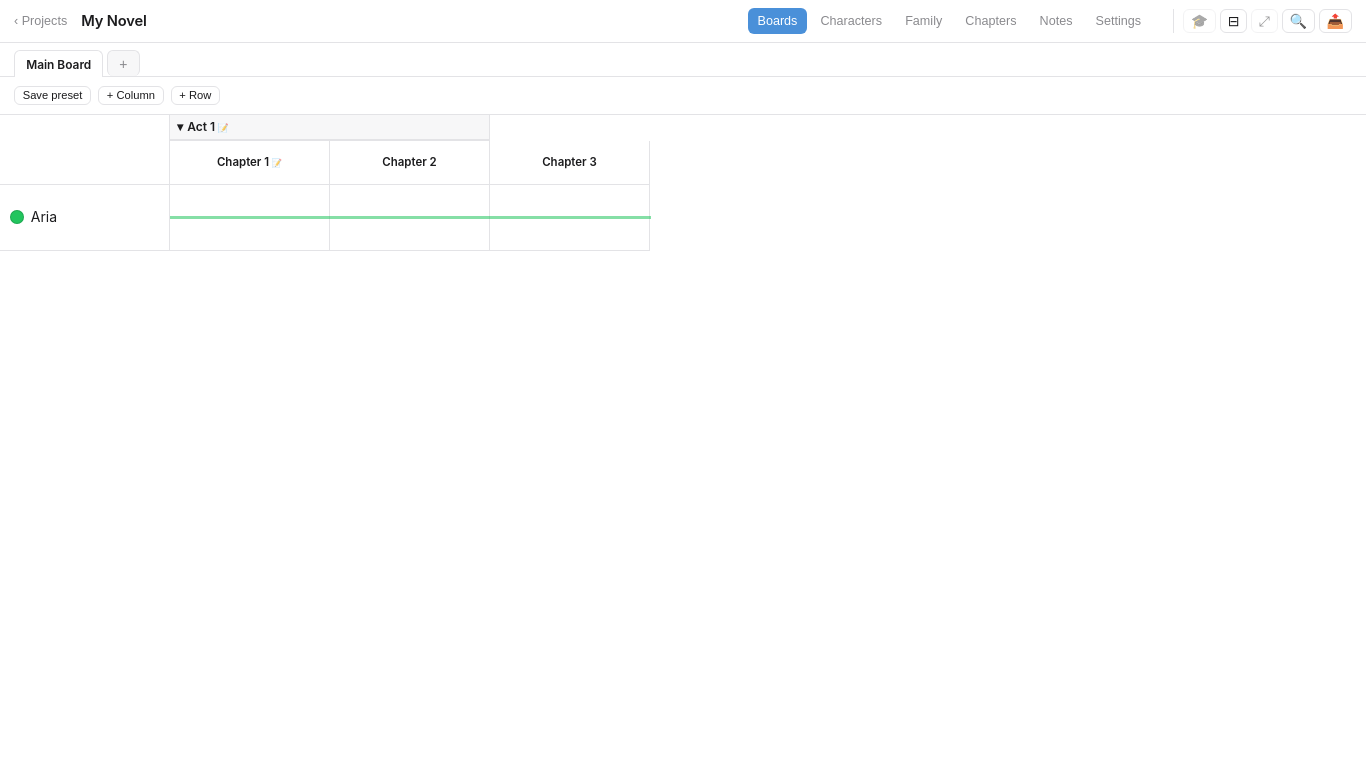
Test: group and column notes in the side panel › opens a group’s note beside the board, titled by its label
Expected: the element with class "board-grid" is shown, [0,114,651,250]
Click the button with class "col-group-label": (208, 126) [187,119,229,134]
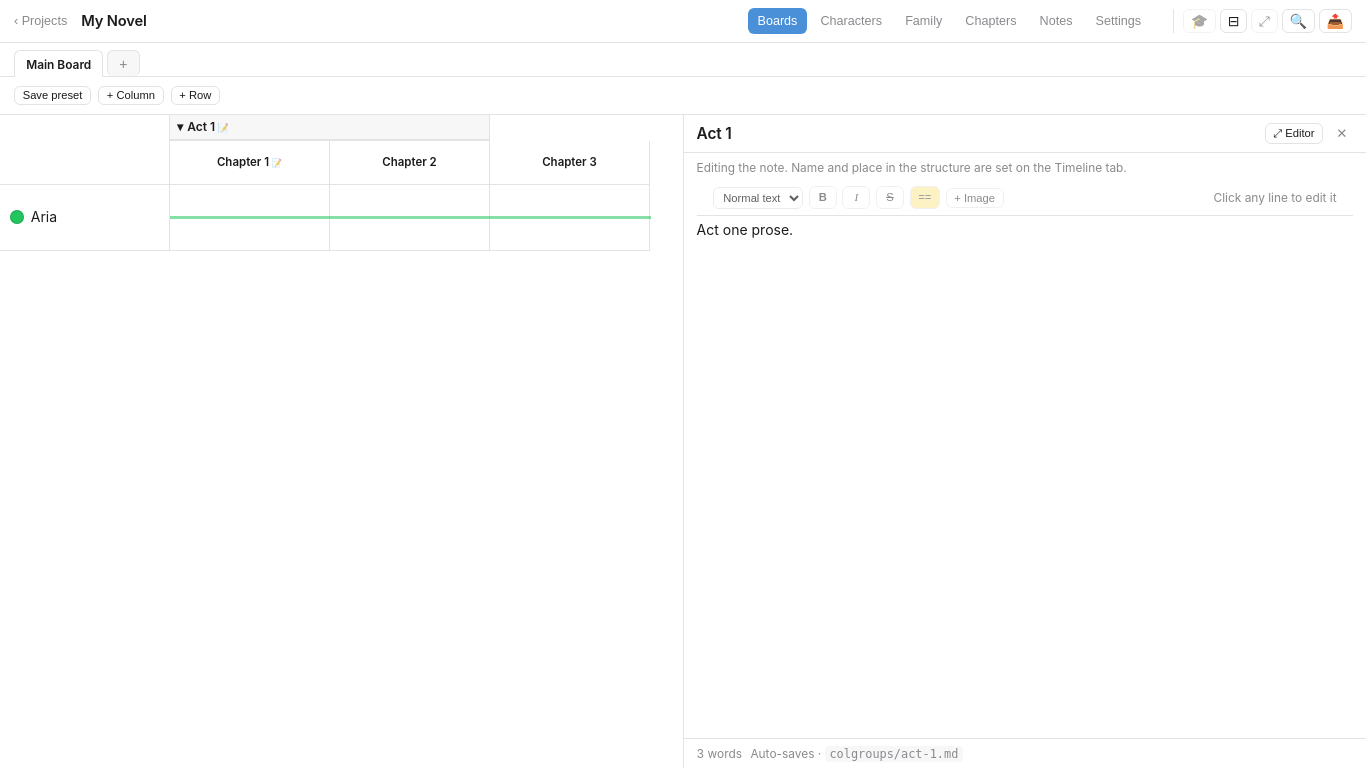
Expected: the text "Act one prose." is shown, [697,222,793,238]
Expected: the heading "Act 1" is shown, [697,124,732,143]
Expected: the text "colgroups/act-1.md" is shown, [824,746,963,762]
